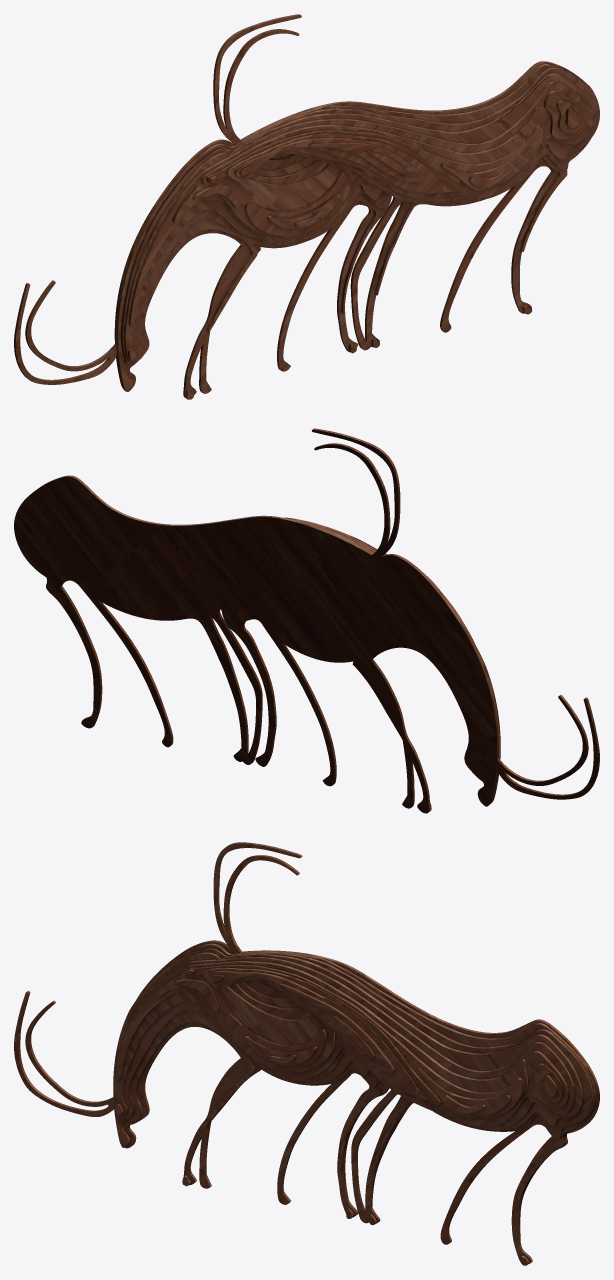
File: SR2_RobotPrintNew.glb
3 views of the same model, one above another, from view 1: azimuth 30°, elevation 25°; view 2: azimuth 150°, elevation 25°; view 3: azimuth 330°, elevation 25° (orthographic).
Parts seen in each view (by area): view 1: Empty.001; view 2: Empty.001; view 3: Empty.001.
Part boxes in pixels (x1=…): Empty.001: x1=14, y1=14, x2=599, y2=399; Empty.001: x1=14, y1=428, x2=599, y2=813; Empty.001: x1=14, y1=842, x2=599, y2=1265.
Bounding box in the file's own units: 2.04 × 1.19 × 0.11.
1 material, 1 textured.
